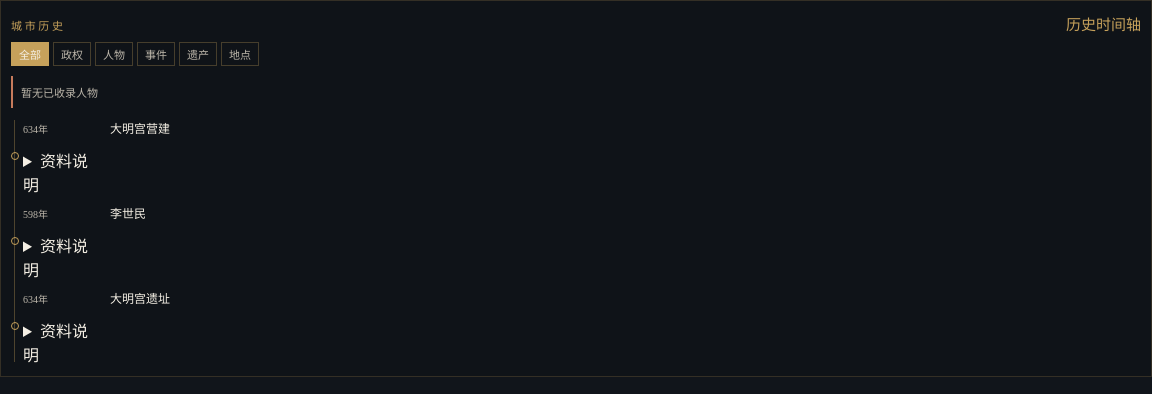
it: CityHistoryTimeline › filters nodes by entity type and keeps missing-data messages visible
This screenshot has width=1152, height=394.
Click the button "事件": click(156, 54) x1=137 y1=42 x2=175 y2=66
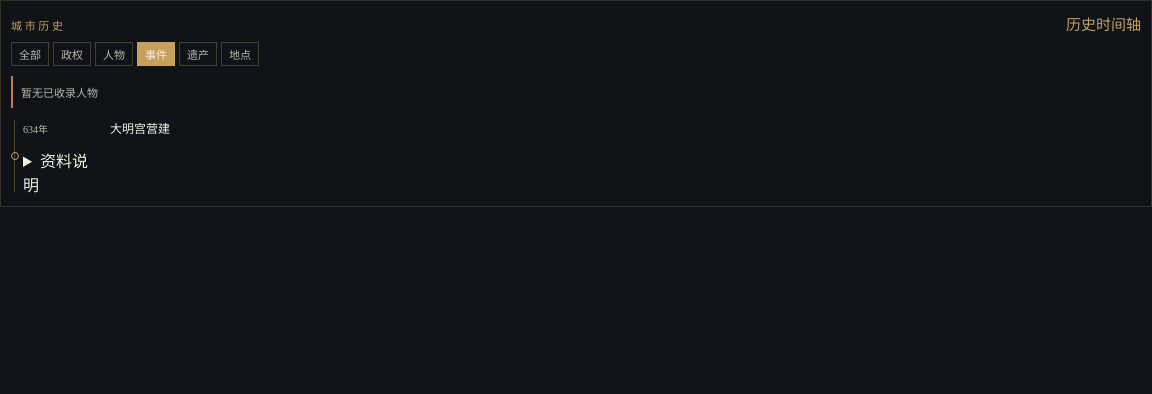
Expected: the button "大明宫营建" is shown, x1=105 y1=116 x2=1141 y2=140
Now the button "李世民" is gone
